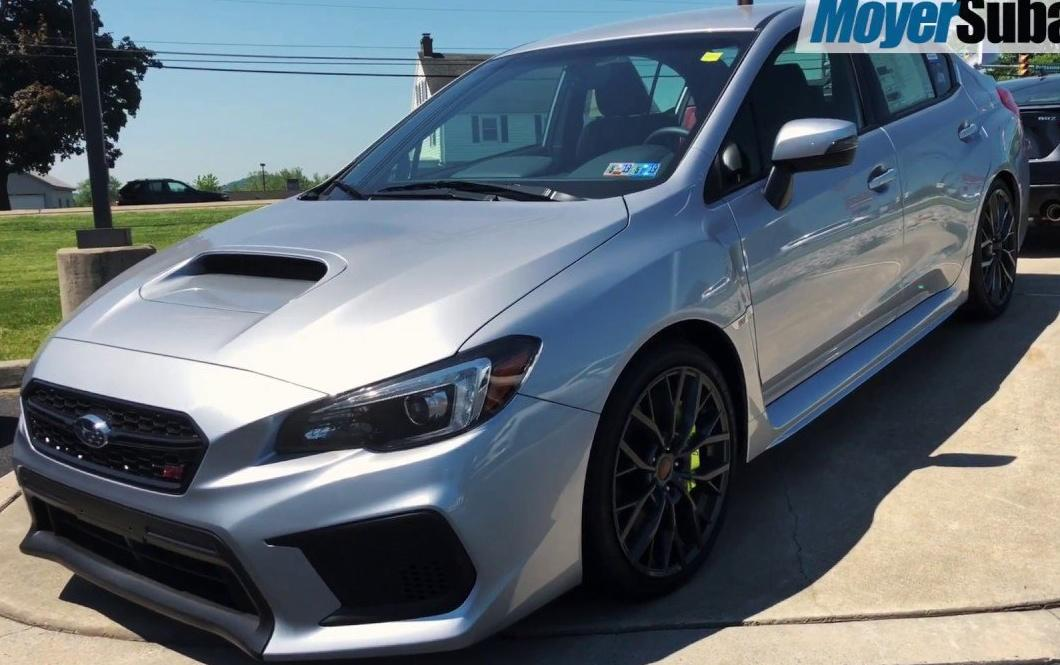Cars: (15, 7, 1030, 657)
